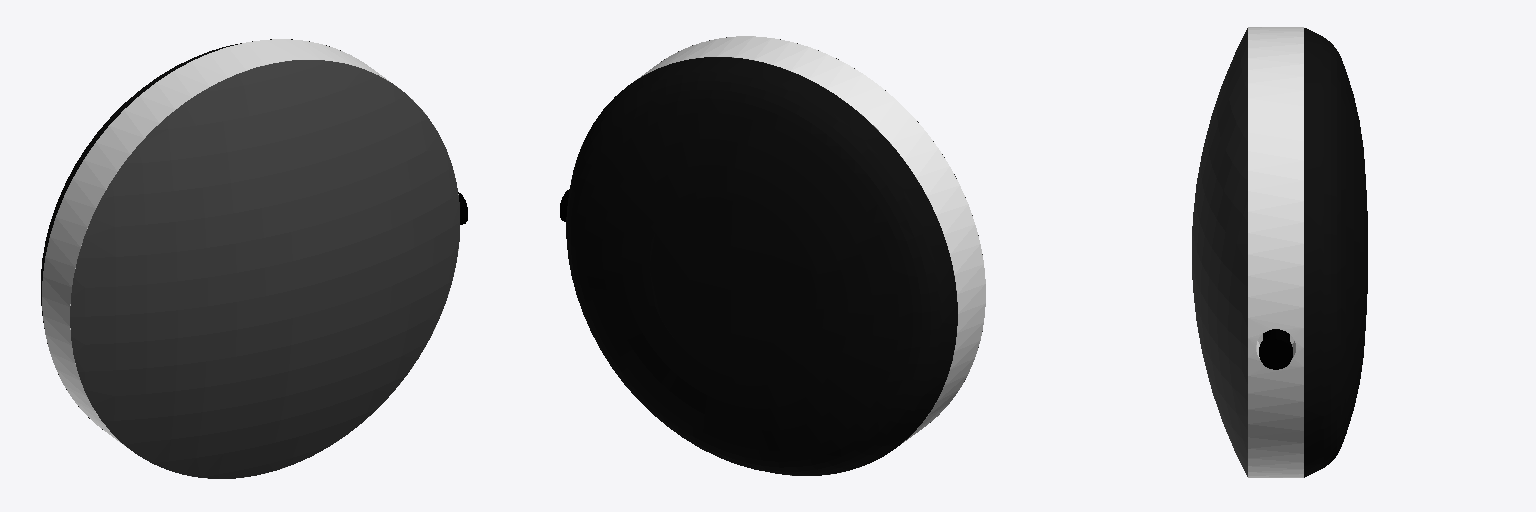
The model's file is Fuselage.obj.
3 renders of one model, left to right at view 1: azimuth 30°, elevation 25°; view 2: azimuth 150°, elevation 25°; view 3: azimuth 270°, elevation 25°, orthographic.
Parts seen in each view (by area): view 1: Solid1:2, Solid1:1, Solid1; view 2: Solid1, Solid1:1; view 3: Solid1:1, Solid1, Solid1:2.
Boxes of the visible parts, x1,y1,x2,y2 form: Solid1:2: [70, 60, 459, 478]; Solid1:1: [42, 39, 467, 478]; Solid1: [41, 39, 340, 429]; Solid1: [566, 57, 957, 475]; Solid1:1: [560, 36, 985, 475]; Solid1:1: [1248, 27, 1303, 477]; Solid1: [1304, 28, 1367, 477]; Solid1:2: [1192, 28, 1247, 476].
Bounding box in the file's own units: 0.207 × 0.2 × 0.0785.